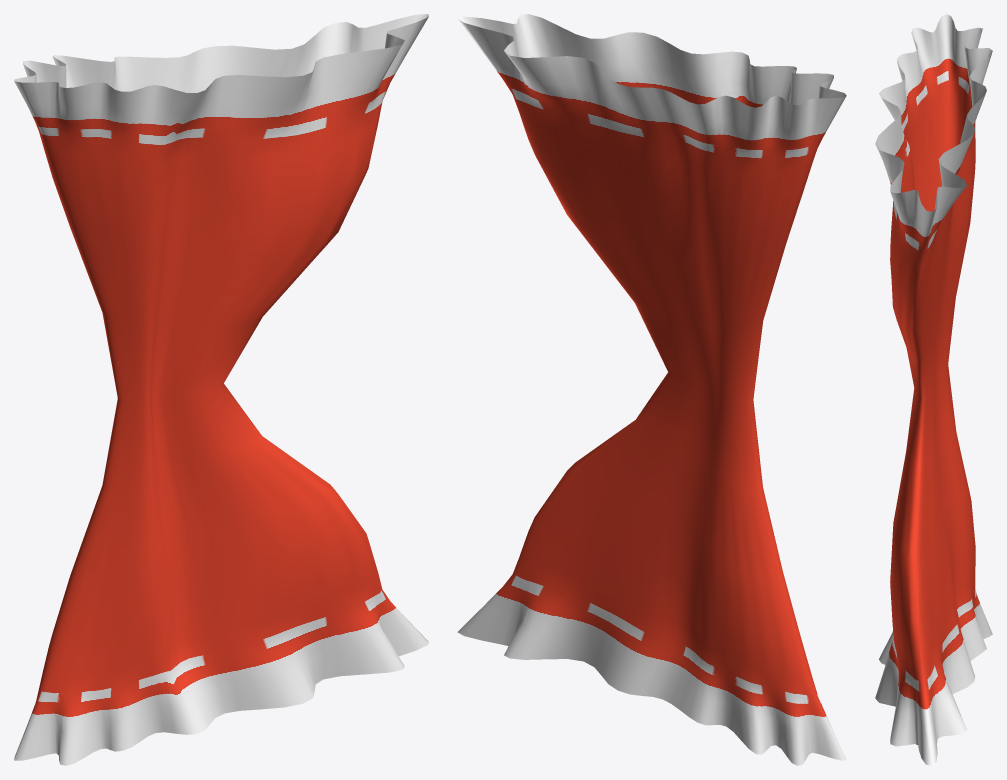
File: reimu_bow_1.glb
The picture shows the model from 3 angles, left to right: view 1: azimuth 30°, elevation 25°; view 2: azimuth 150°, elevation 25°; view 3: azimuth 270°, elevation 25°; orthographic projection. The views are drawn at different scales.
Parts seen in each view (by area): view 1: reimu_bow_1; view 2: reimu_bow_1; view 3: reimu_bow_1.
Boxes of the visible parts, x1,y1,x2,y2 form: reimu_bow_1: [14, 14, 428, 765]; reimu_bow_1: [457, 14, 846, 765]; reimu_bow_1: [875, 14, 992, 765].
Size of the model in its own units: 1.16 by 1.86 by 0.3304.
1 material, 1 textured.
